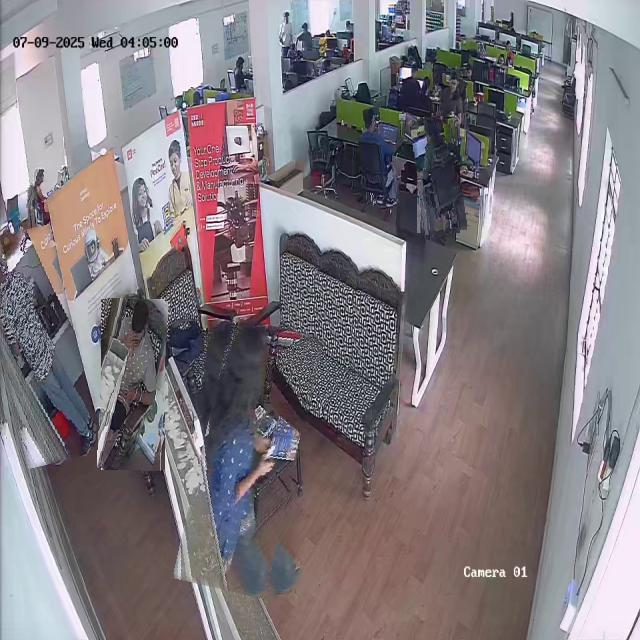person: (187, 320, 310, 596), (0, 226, 89, 466), (100, 298, 168, 471), (413, 116, 464, 234), (357, 106, 397, 209), (434, 71, 468, 125), (28, 166, 56, 211), (279, 10, 295, 47)
